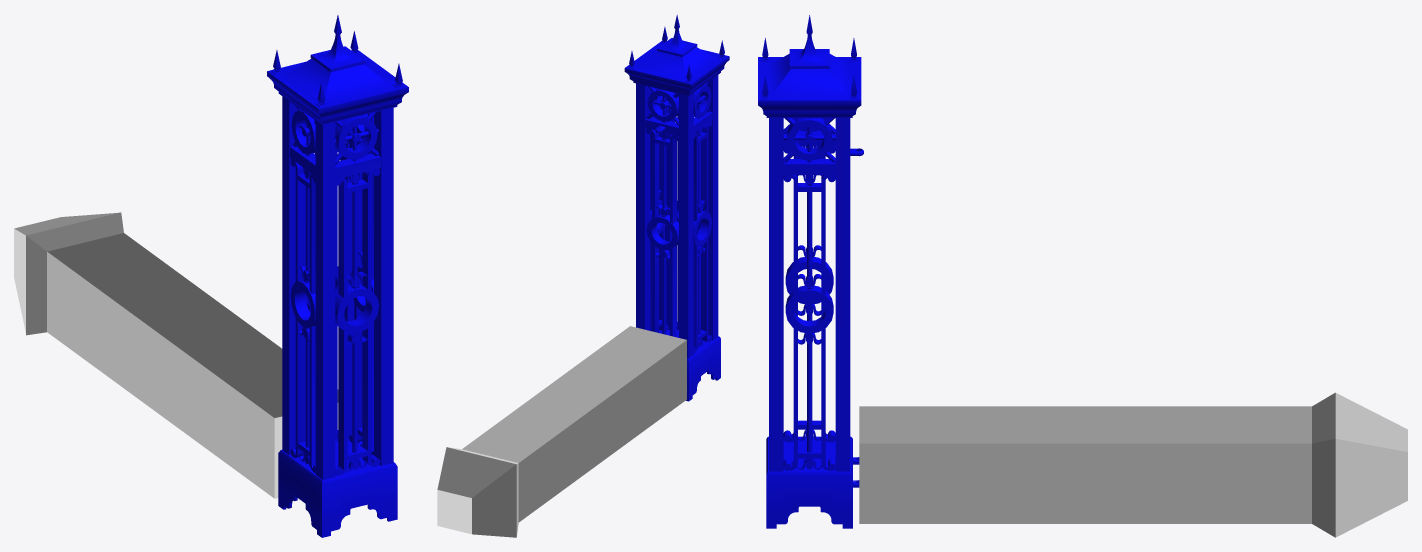
Rendered from SM_FencePole_Door_01.fbx.
3 renders of one model, left to right at view 1: azimuth 30°, elevation 25°; view 2: azimuth 150°, elevation 25°; view 3: azimuth 270°, elevation 25°, orthographic. The views are drawn at different scales.
Visible parts, largest first — view 1: SM_FencePole_Door_01_LOD0, SM_FencePole_Door_01_ConvexHulls; view 2: SM_FencePole_Door_01_LOD0, SM_FencePole_Door_01_ConvexHulls; view 3: SM_FencePole_Door_01_ConvexHulls, SM_FencePole_Door_01_LOD0.
Boxes of the visible parts, x1=… form: SM_FencePole_Door_01_LOD0: x1=267, y1=15, x2=408, y2=537; SM_FencePole_Door_01_ConvexHulls: x1=14, y1=212, x2=338, y2=498; SM_FencePole_Door_01_LOD0: x1=624, y1=14, x2=729, y2=401; SM_FencePole_Door_01_ConvexHulls: x1=437, y1=326, x2=686, y2=537; SM_FencePole_Door_01_ConvexHulls: x1=859, y1=392, x2=1407, y2=537; SM_FencePole_Door_01_LOD0: x1=758, y1=15, x2=863, y2=528.
Bounding box in the file's own units: 40.29 × 239 × 203.
